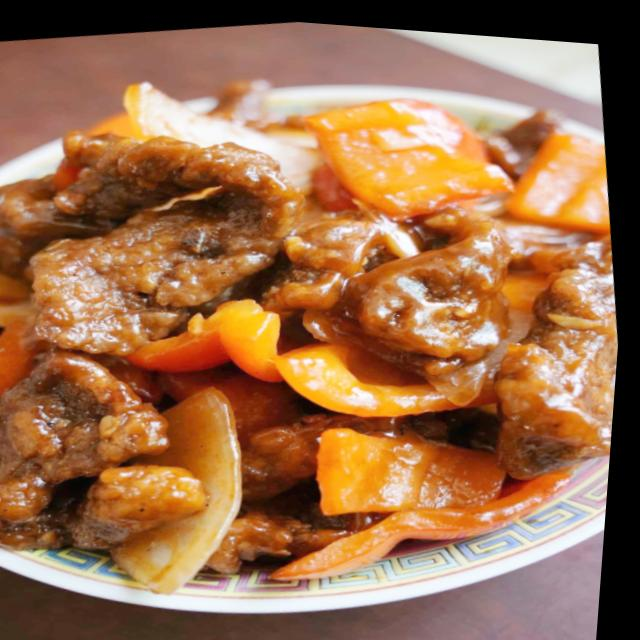Beijing Beef: (0, 32, 638, 633)
